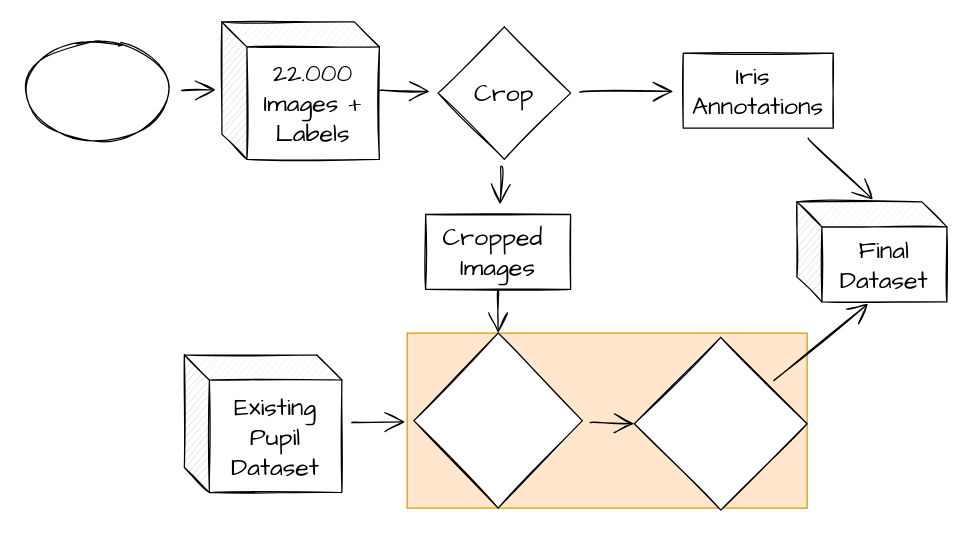
Some shapes in this 969 by 533 pixel diagram are drawn without their labels. Here are the shapes that lost their labels. From the top down, the box of each, then its label:
(21, 39, 172, 141): Unity Eyes
(413, 332, 582, 508): Train Models
(633, 336, 807, 510): Generate Annotat- ions
